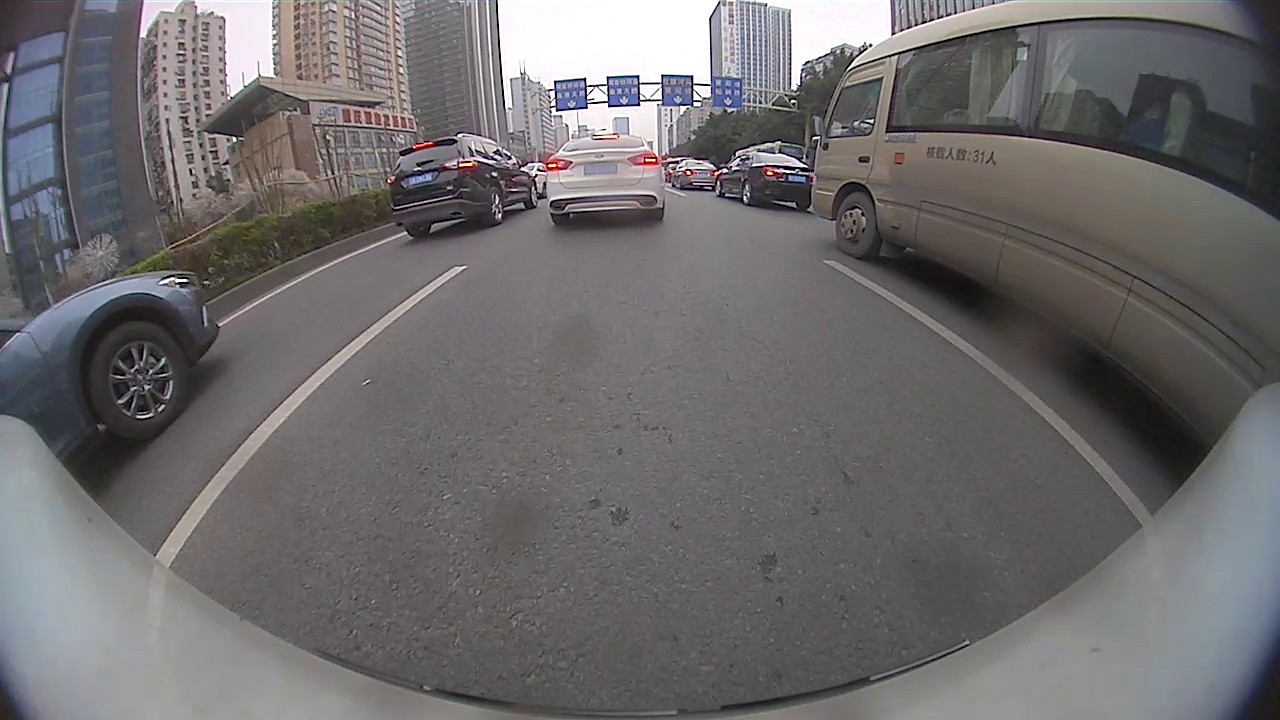bus: (812, 0, 1277, 454)
car: (1, 269, 220, 478), (386, 132, 538, 239), (545, 134, 667, 229), (716, 152, 814, 213), (673, 158, 717, 190)
front: (83, 322, 193, 437), (833, 192, 879, 260), (525, 176, 539, 208)
rear: (482, 186, 504, 225), (739, 181, 753, 206)
